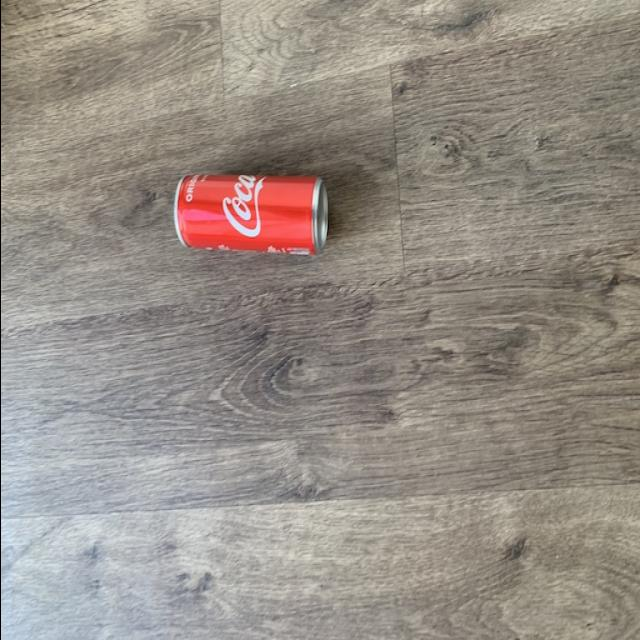Aluminum Can: (142, 136, 354, 308)
